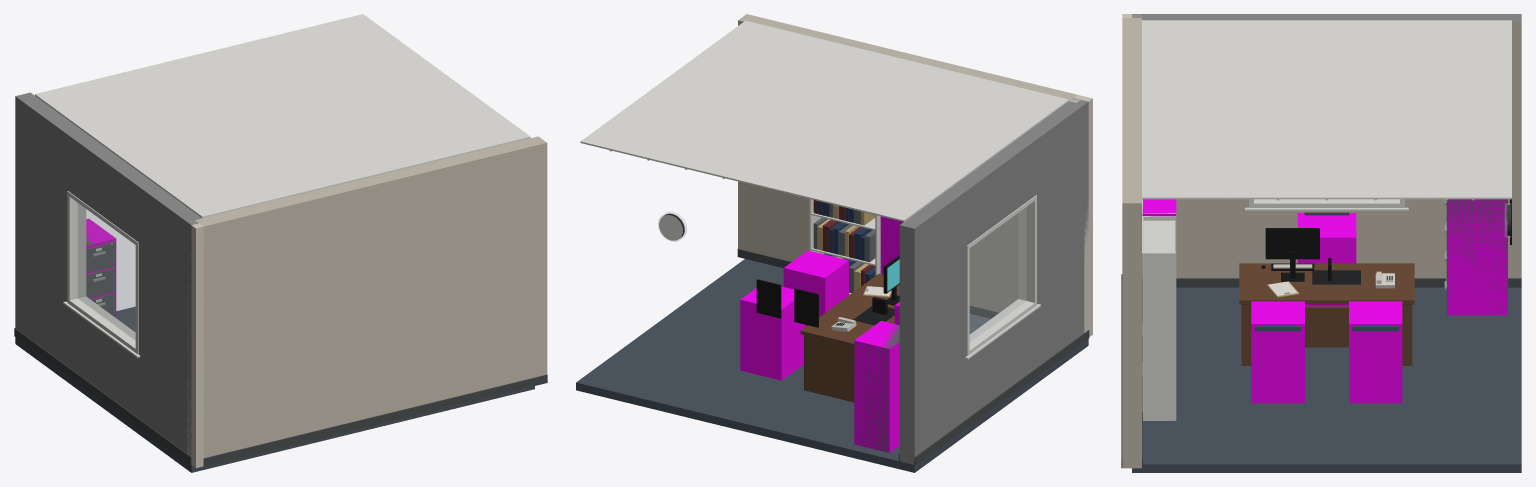
The model's file is ENV_MedicalDirectorOffice.glb.
The picture shows the model from 3 angles, left to right: view 1: azimuth 30°, elevation 25°; view 2: azimuth 150°, elevation 25°; view 3: azimuth 270°, elevation 25°; orthographic projection. The views are drawn at different scales.
Visible parts, largest first — view 1: ENV_MedicalDirectorOffice_Architecture, ENV_MedicalDirectorOffice_Ceiling, ENV_MedicalDirectorOffice_Posts, PROP_Cabinet_Filing_4Drawer_Mesh.007, PROP_Cabinet_Filing_4Drawer_COL-colonly.007; view 2: ENV_MedicalDirectorOffice_Architecture, ENV_MedicalDirectorOffice_Ceiling, PROP_Cabinet_Filing_4Drawer_COL-colonly.007, PROP_Desk_Executive_Mesh, PROP_Chair_Visitor_COL-colonly.002, PROP_Bookcase_Binders_Mesh, PROP_Chair_Visitor_COL-colonly.001, PROP_Cabinet_Filing_4Drawer_Mesh.007, ENV_MedicalDirectorOffice_Posts, PROP_Bookcase_Binders_COL-colonly.001, PROP_Frame_Certificate_Mesh.001, PROP_Frame_Certificate_Mesh (+2 smaller); view 3: ENV_MedicalDirectorOffice_Architecture, ENV_MedicalDirectorOffice_Ceiling, PROP_Desk_Executive_Mesh, PROP_Bookcase_Binders_Mesh, PROP_Cabinet_Filing_4Drawer_COL-colonly.007, PROP_Chair_Visitor_COL-colonly.001, PROP_Chair_Visitor_COL-colonly.002, PROP_Cabinet_Filing_4Drawer_Mesh.007, PROP_Terminal_EHR_Mesh.003, PROP_Chair_Office_COL-colonly.003, PROP_Bookcase_Binders_COL-colonly.001.
Part boxes in pixels (x1,y1,x2,y2): ENV_MedicalDirectorOffice_Architecture: [14, 92, 547, 472]; ENV_MedicalDirectorOffice_Ceiling: [35, 14, 530, 218]; ENV_MedicalDirectorOffice_Posts: [187, 218, 210, 467]; PROP_Cabinet_Filing_4Drawer_Mesh.007: [86, 239, 115, 317]; PROP_Cabinet_Filing_4Drawer_COL-colonly.007: [86, 218, 116, 317]; ENV_MedicalDirectorOffice_Architecture: [576, 14, 1089, 472]; ENV_MedicalDirectorOffice_Ceiling: [580, 20, 1068, 221]; PROP_Cabinet_Filing_4Drawer_COL-colonly.007: [854, 320, 899, 452]; PROP_Desk_Executive_Mesh: [800, 273, 899, 402]; PROP_Chair_Visitor_COL-colonly.002: [740, 286, 805, 380]; PROP_Bookcase_Binders_Mesh: [809, 199, 880, 294]; PROP_Chair_Visitor_COL-colonly.001: [783, 250, 848, 326]; PROP_Cabinet_Filing_4Drawer_Mesh.007: [854, 325, 899, 452]; ENV_MedicalDirectorOffice_Posts: [1074, 95, 1092, 336]; PROP_Bookcase_Binders_COL-colonly.001: [880, 216, 903, 274]; PROP_Frame_Certificate_Mesh.001: [756, 279, 781, 318]; PROP_Frame_Certificate_Mesh: [794, 288, 818, 327]; ENV_MedicalDirectorOffice_Architecture: [1121, 14, 1521, 472]; ENV_MedicalDirectorOffice_Ceiling: [1142, 20, 1511, 200]; PROP_Desk_Executive_Mesh: [1239, 263, 1414, 365]; PROP_Bookcase_Binders_Mesh: [1142, 216, 1176, 420]; PROP_Cabinet_Filing_4Drawer_COL-colonly.007: [1447, 199, 1507, 315]; PROP_Chair_Visitor_COL-colonly.001: [1251, 301, 1304, 403]; PROP_Chair_Visitor_COL-colonly.002: [1349, 301, 1402, 403]; PROP_Cabinet_Filing_4Drawer_Mesh.007: [1444, 199, 1507, 312]; PROP_Terminal_EHR_Mesh.003: [1261, 228, 1331, 281]; PROP_Chair_Office_COL-colonly.003: [1297, 213, 1356, 306]; PROP_Bookcase_Binders_COL-colonly.001: [1142, 199, 1176, 216].
Size of what is drawn, in the model's own units: 4.64 by 3.12 by 4.11.
